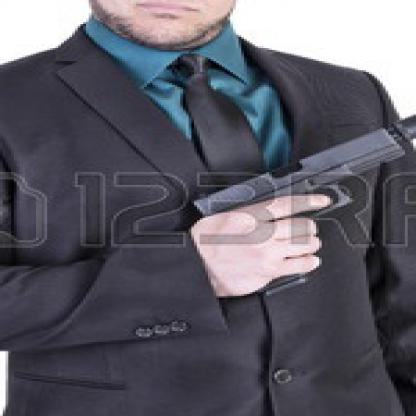gun: (191, 122, 405, 300)
